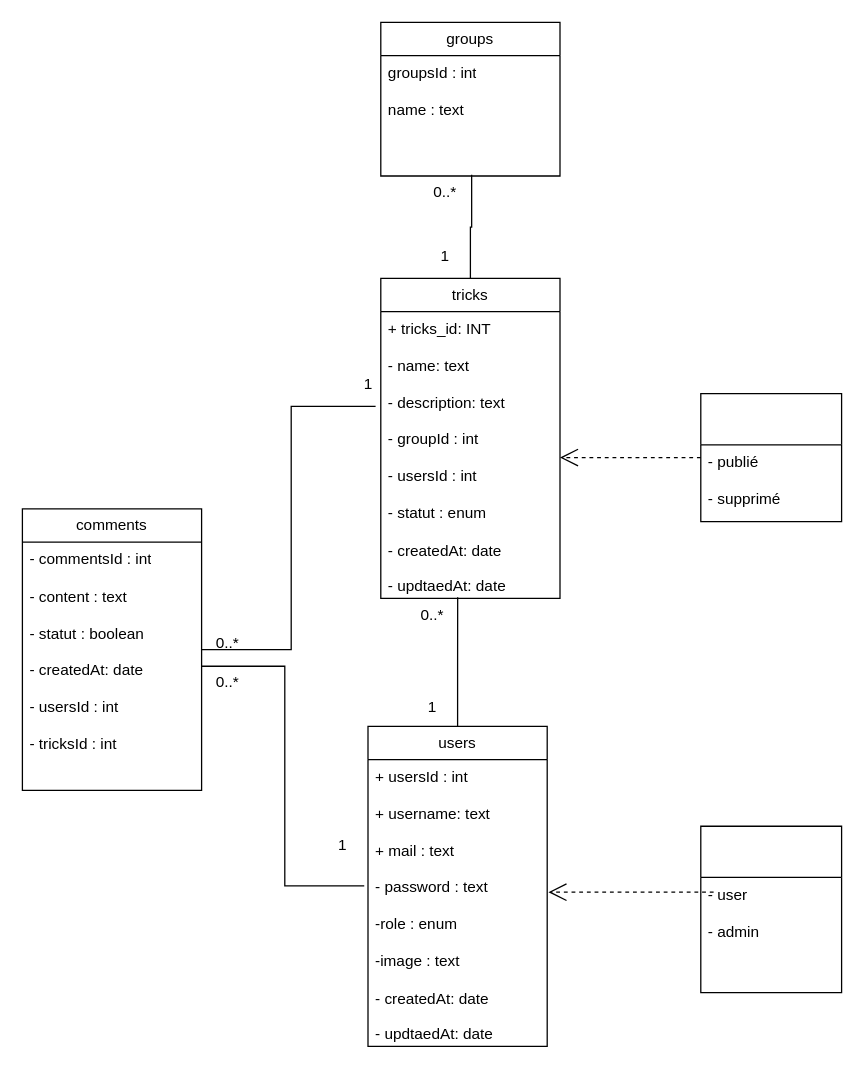
This 864x1073 diagram has some shape labels left out. Each missing label, with the box of its shape:
<<enumeration>> role: (700, 825, 842, 993)
<<enumeration>> statut: (700, 392, 842, 522)
